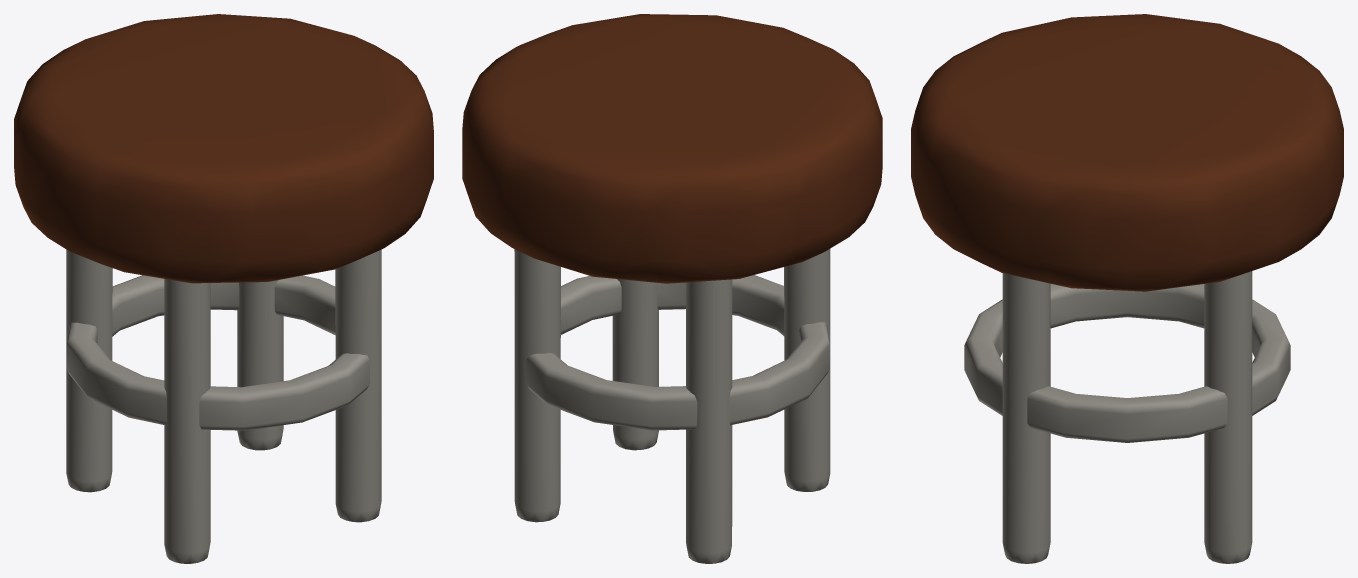
File: stool_08_brown.fbx
3 views of the same model, side by side, from view 1: azimuth 30°, elevation 25°; view 2: azimuth 150°, elevation 25°; view 3: azimuth 270°, elevation 25° (orthographic). The views are drawn at different scales.
Visible parts, largest first — view 1: stool_08_brown; view 2: stool_08_brown; view 3: stool_08_brown.
Part boxes in pixels (left/top/right/bottom): stool_08_brown: left=14, top=14, right=433, bottom=563; stool_08_brown: left=462, top=14, right=882, bottom=563; stool_08_brown: left=911, top=14, right=1343, bottom=563.
Size of the model in its own units: 39.67 by 42.64 by 39.67.
Materials: 2 (2 with a texture image).
